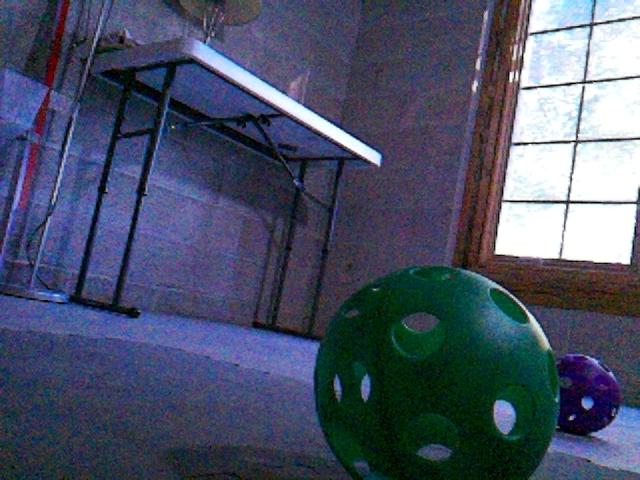Green: (310, 261, 561, 477)
Purple: (552, 349, 622, 437)
